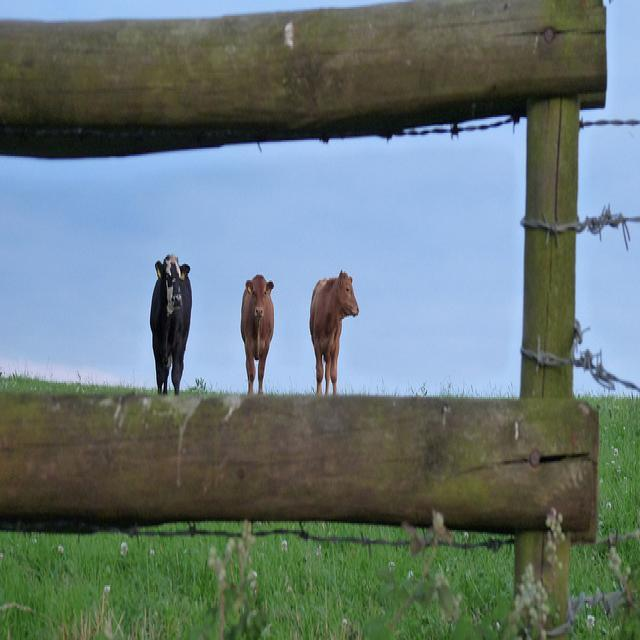cow: (147, 250, 191, 397), (308, 266, 358, 394), (240, 271, 274, 392)
